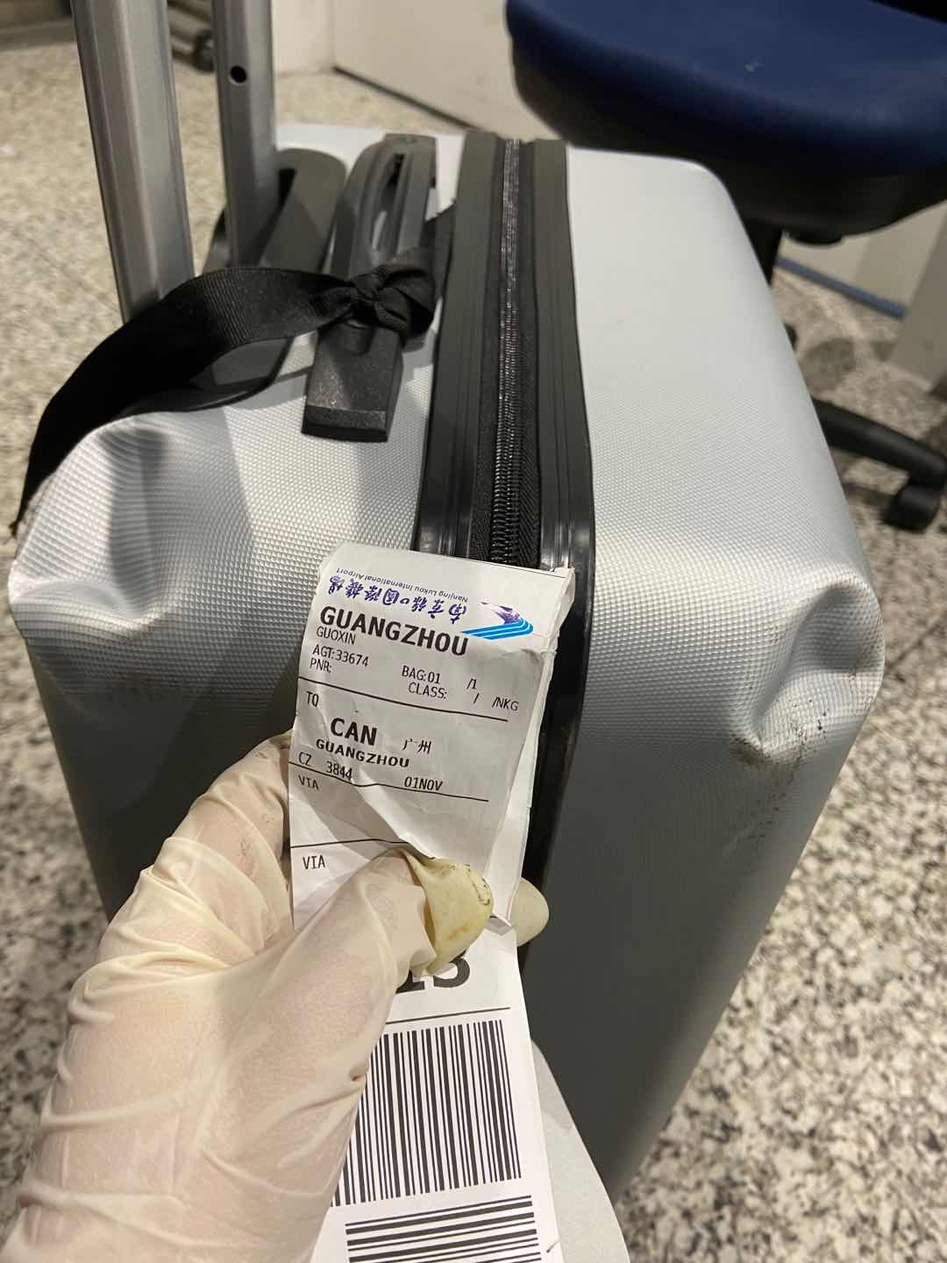rupture: (5, 417, 192, 638), (728, 567, 887, 762)
